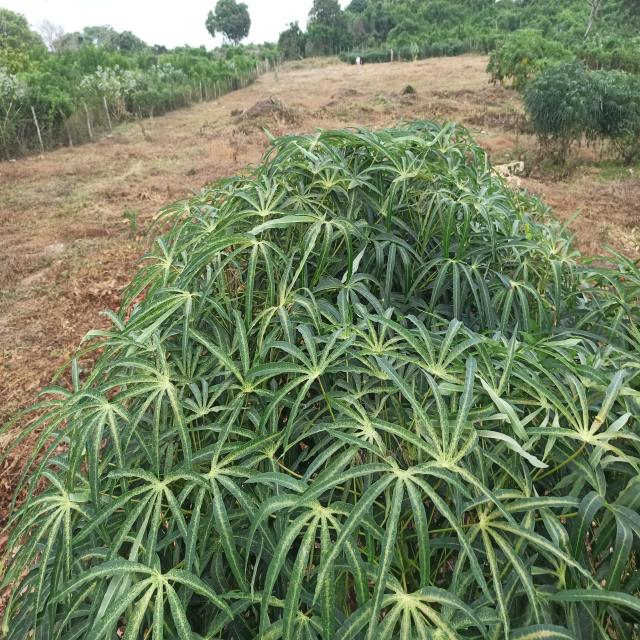Mosca: (276, 413, 294, 432), (594, 577, 614, 592), (24, 521, 40, 539), (587, 516, 607, 529), (607, 542, 623, 558), (375, 289, 383, 315), (579, 541, 594, 551)
